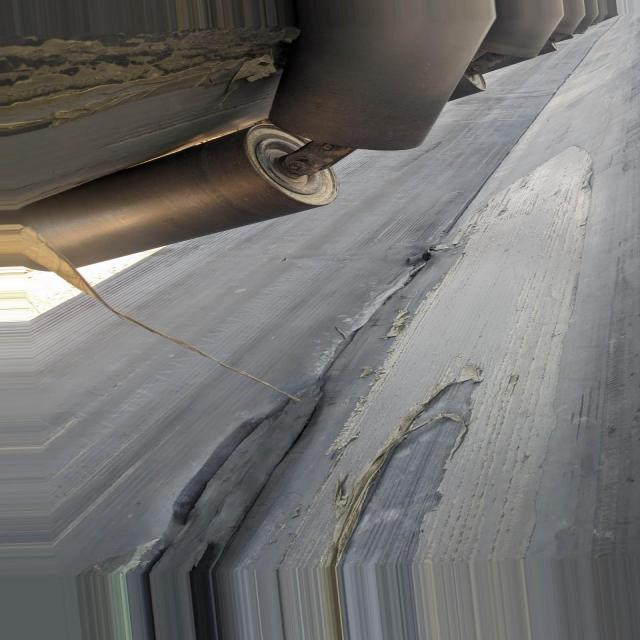Roller: (21, 126, 339, 273), (264, 15, 497, 152)
Tear: (214, 247, 461, 569), (339, 380, 472, 564)
